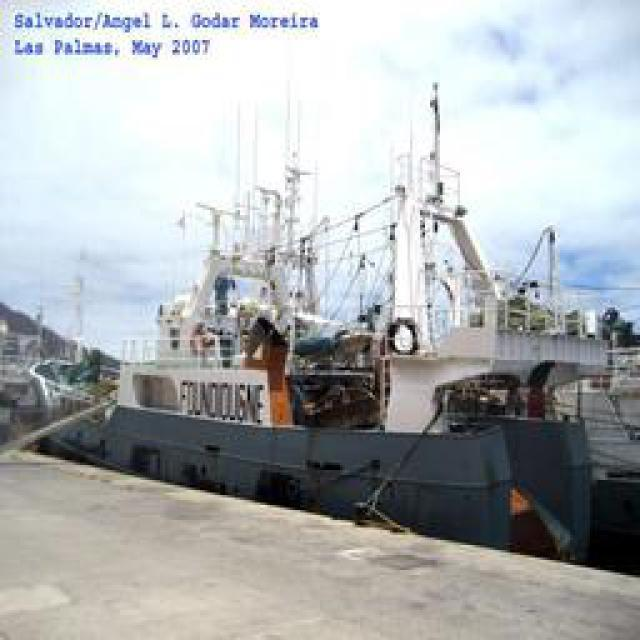Ship: (61, 68, 616, 543)
